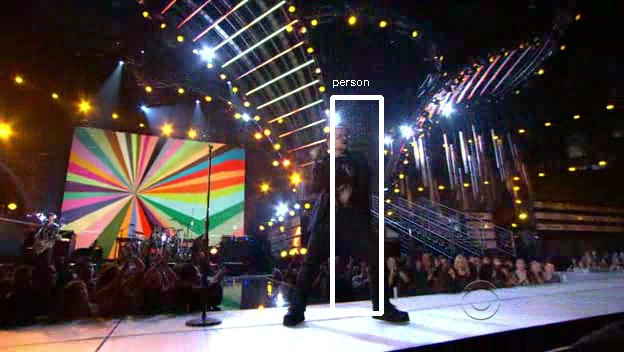person: (308, 124, 374, 244), (305, 124, 371, 244), (311, 124, 377, 244), (308, 121, 374, 241), (308, 127, 374, 247)
target_negative: (264, 50, 321, 346), (53, 4, 76, 197), (453, 100, 559, 136), (604, 73, 615, 293), (306, 339, 584, 347), (97, 193, 154, 228)
